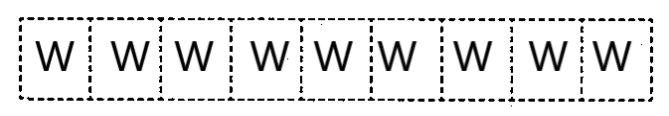W: (307, 34, 358, 80), (586, 35, 638, 79), (524, 34, 574, 78), (31, 35, 76, 83), (374, 34, 425, 76), (448, 36, 499, 78), (106, 35, 153, 77), (246, 36, 293, 77), (170, 37, 218, 77)
